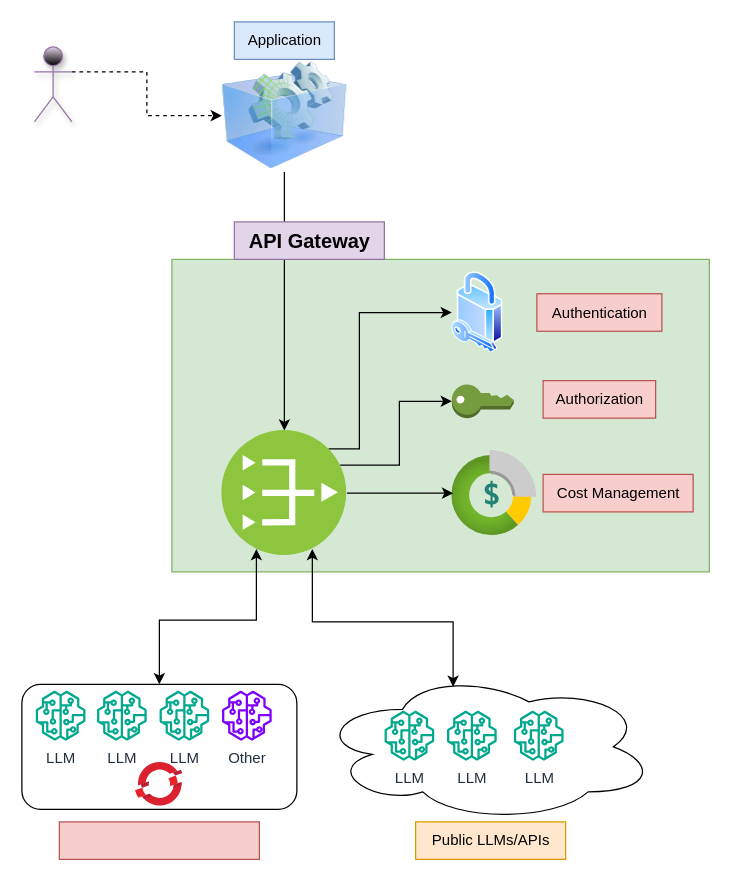
This 731x881 diagram has some shape labels left out. Here are the shapes that lost their labels. From the top down, the centre of each, then its label:
At (x=53, y=86): "Actor".
At (x=158, y=840): "RHOAI On Premise/Cloud".
